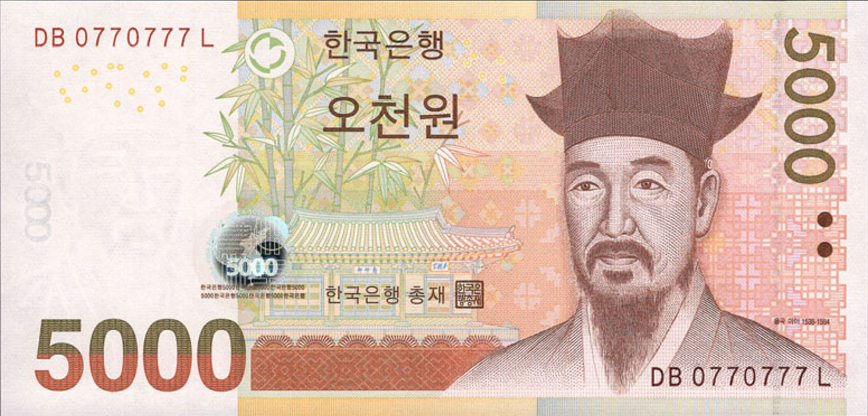5000won: (2, 3, 866, 416)
